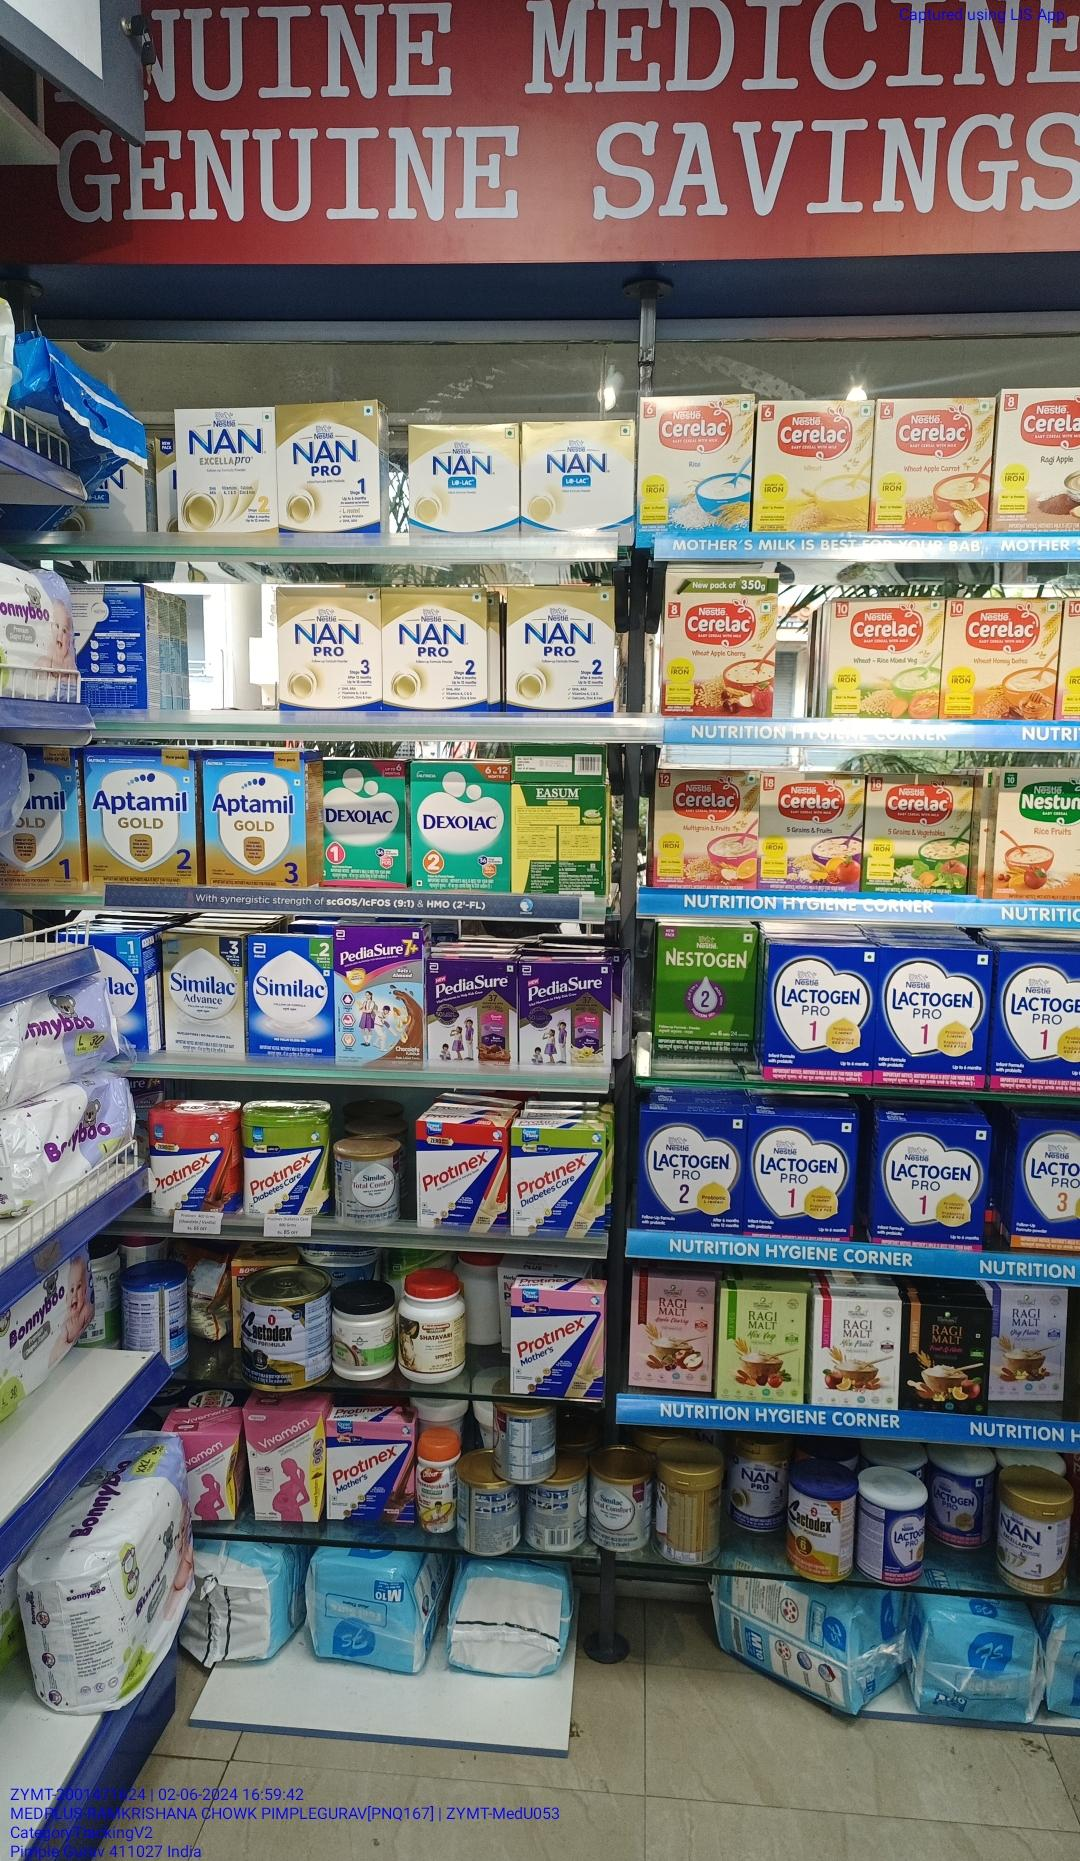PROTINEX_CHOCOLATE_400_G_JAR: (148, 1113, 237, 1212)
PROTINEX_VANILLA_400_G_JAR: (242, 1113, 333, 1217)
